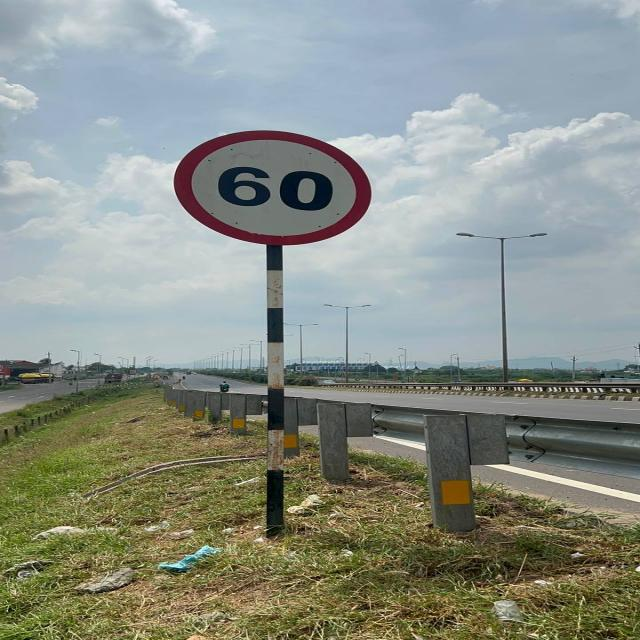speedlimit_60: (178, 124, 370, 247)
